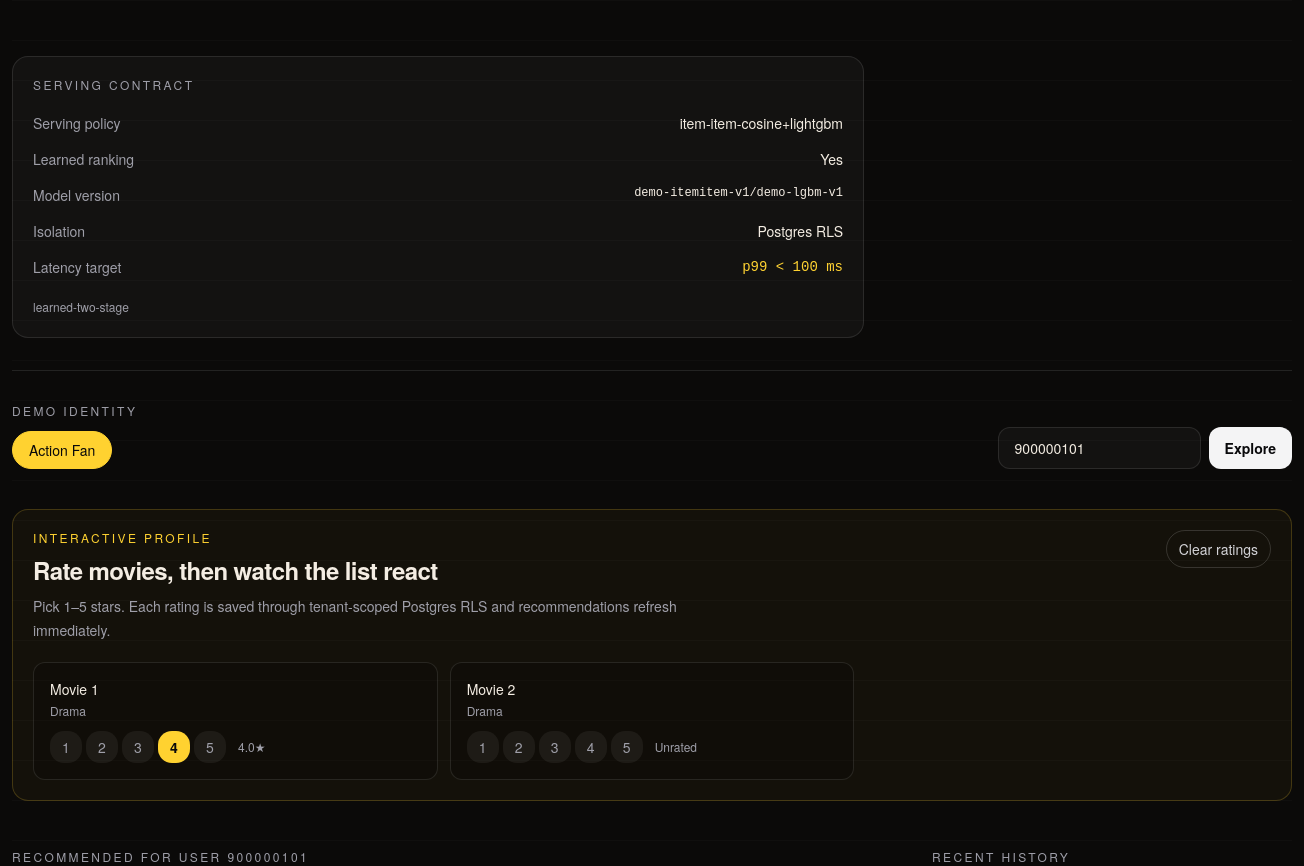
Test: clearing every rating › keeps the offer open when the delete failed
Click the button "Clear ratings" at (1218, 549), box [1166,530,1271,568]
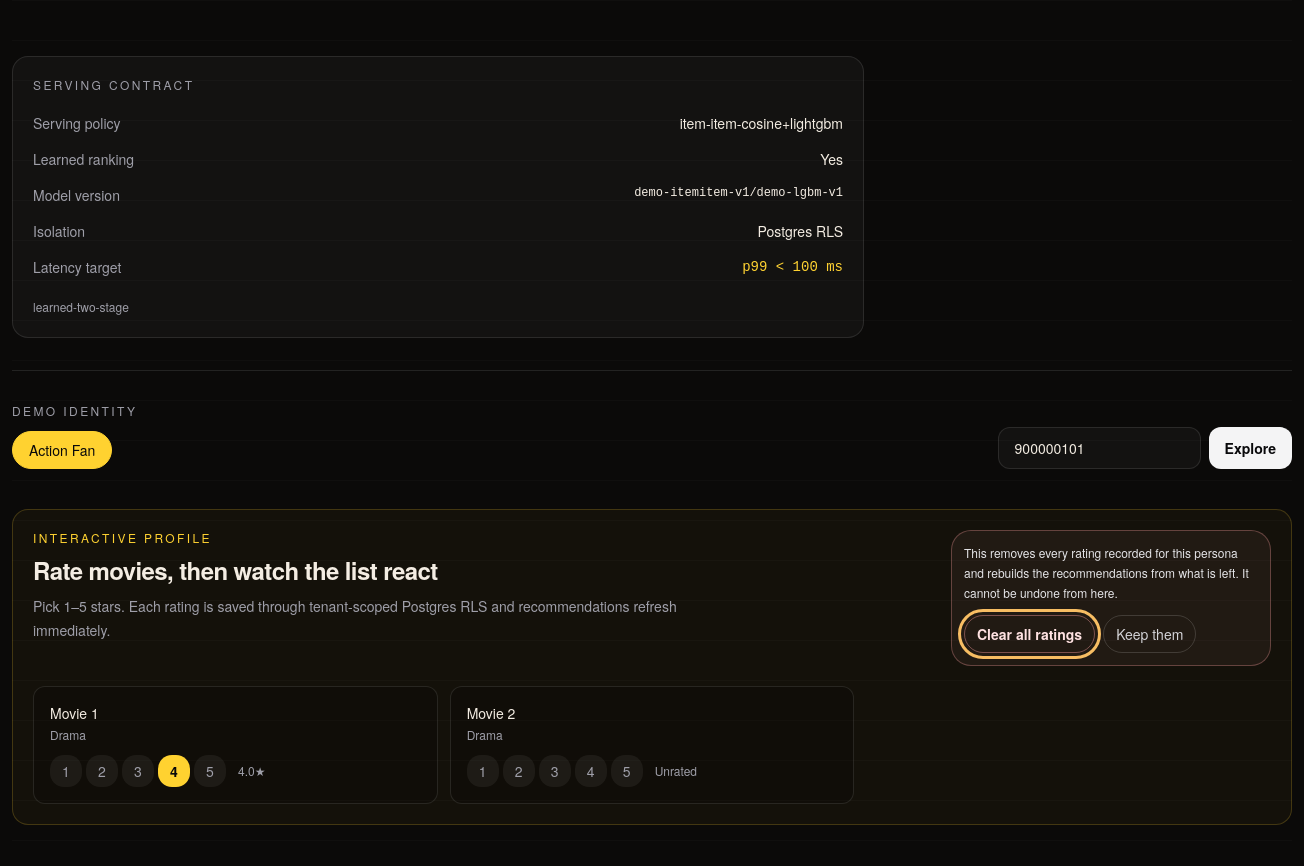
Click the button "Clear all ratings" at (1030, 634), box [964,615,1095,653]
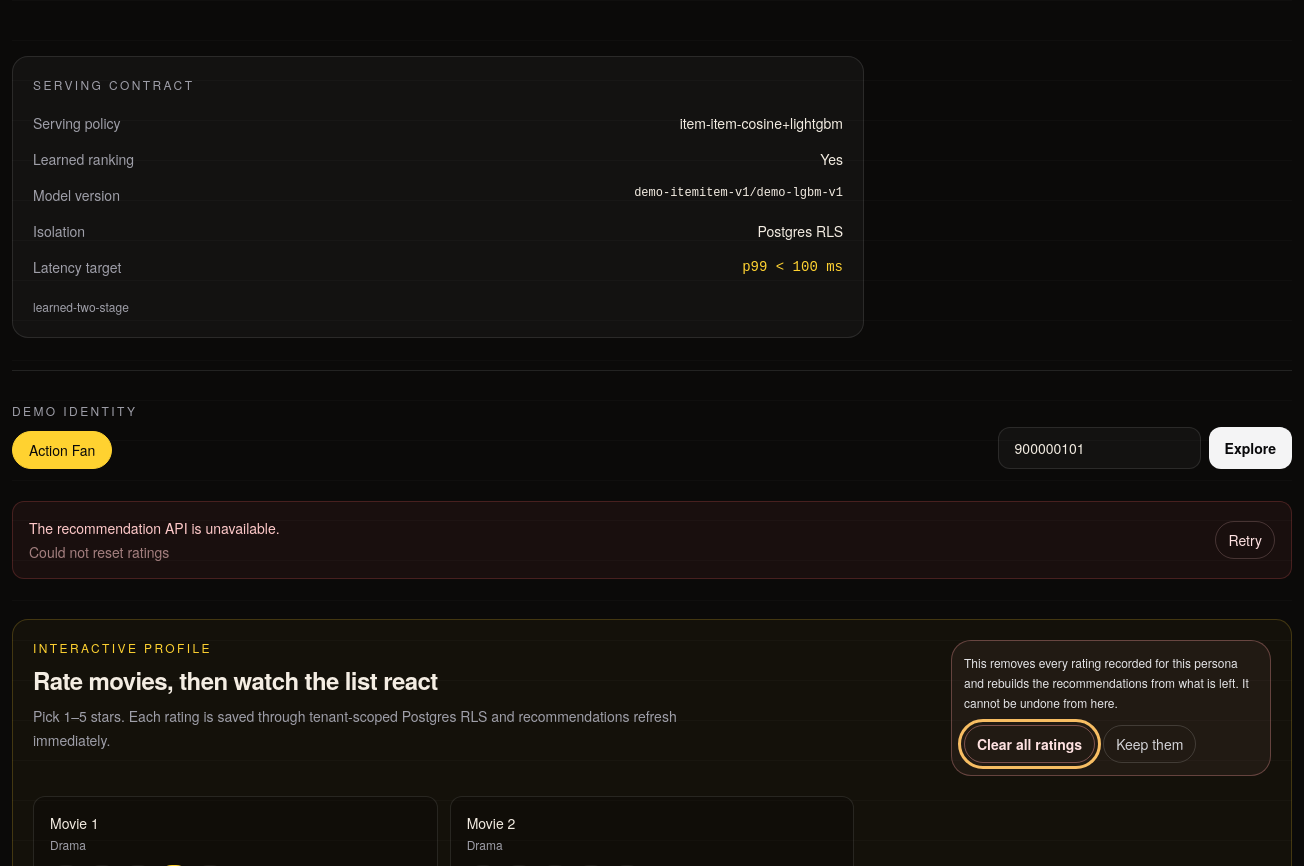
Expected: the element named "Confirm clearing every rating" is shown, [951,640,1271,776]
Expected: the message "The recommendation API is unavailable. Could not reset ratings Retry" is shown, [12,501,1292,579]
